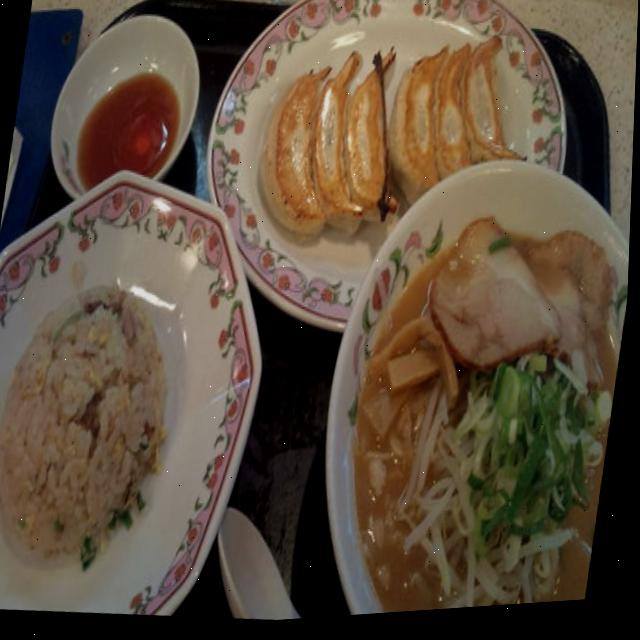带馅早点: (239, 11, 545, 260)
米饭主食: (0, 240, 199, 599)
面条主食: (308, 162, 634, 623)
